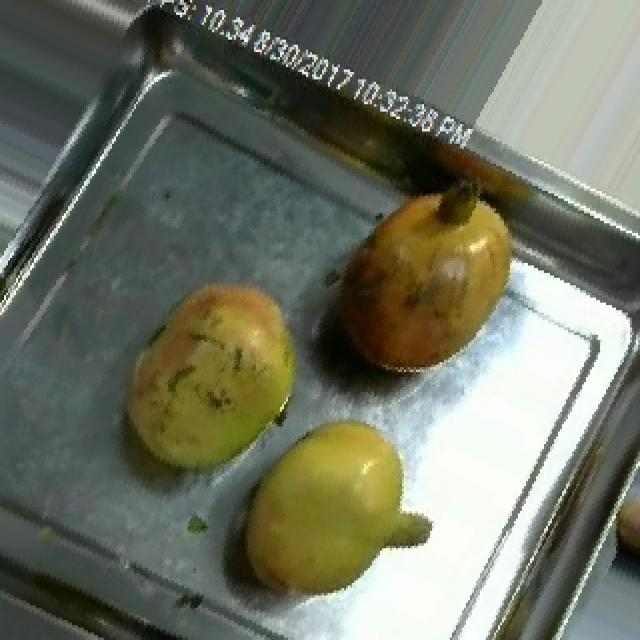fruit: (306, 162, 544, 404), (212, 390, 450, 628), (106, 261, 326, 501)
